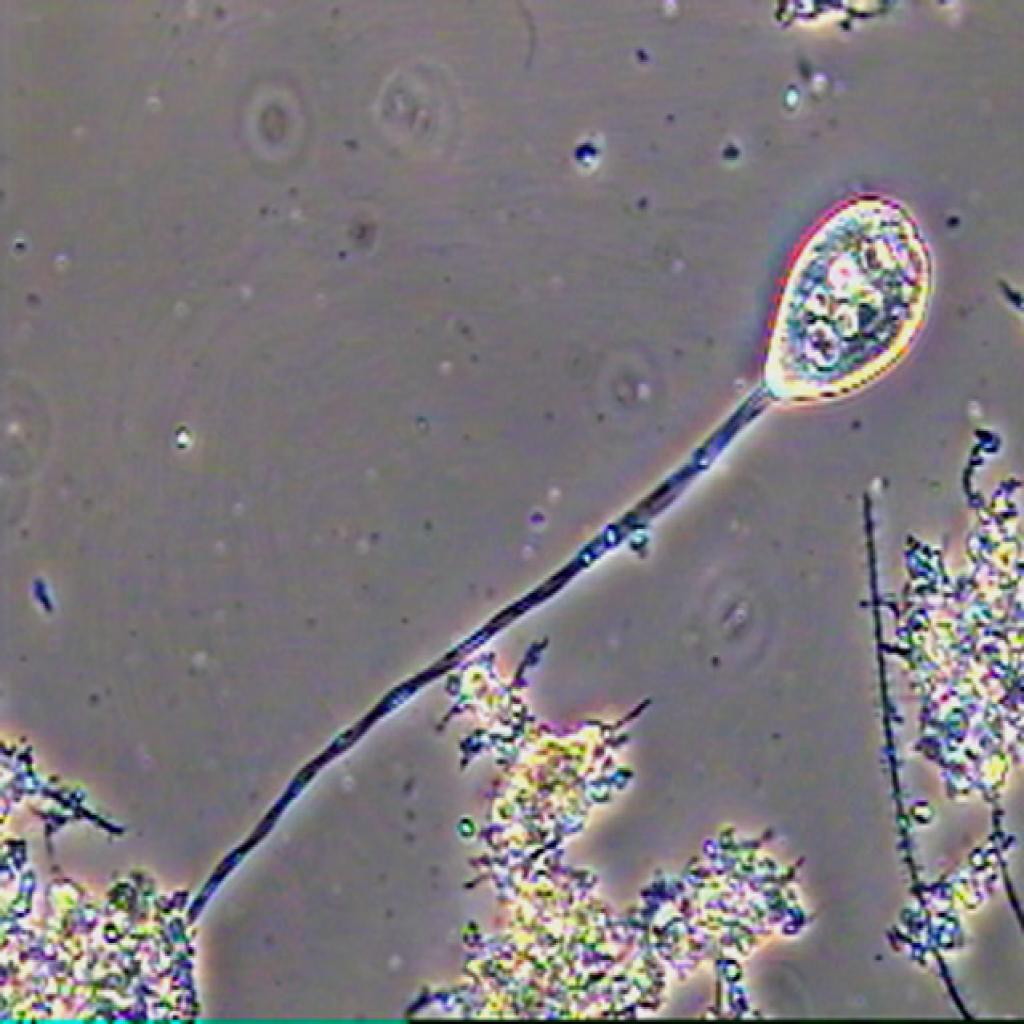Vorticella: (204, 177, 954, 627)
